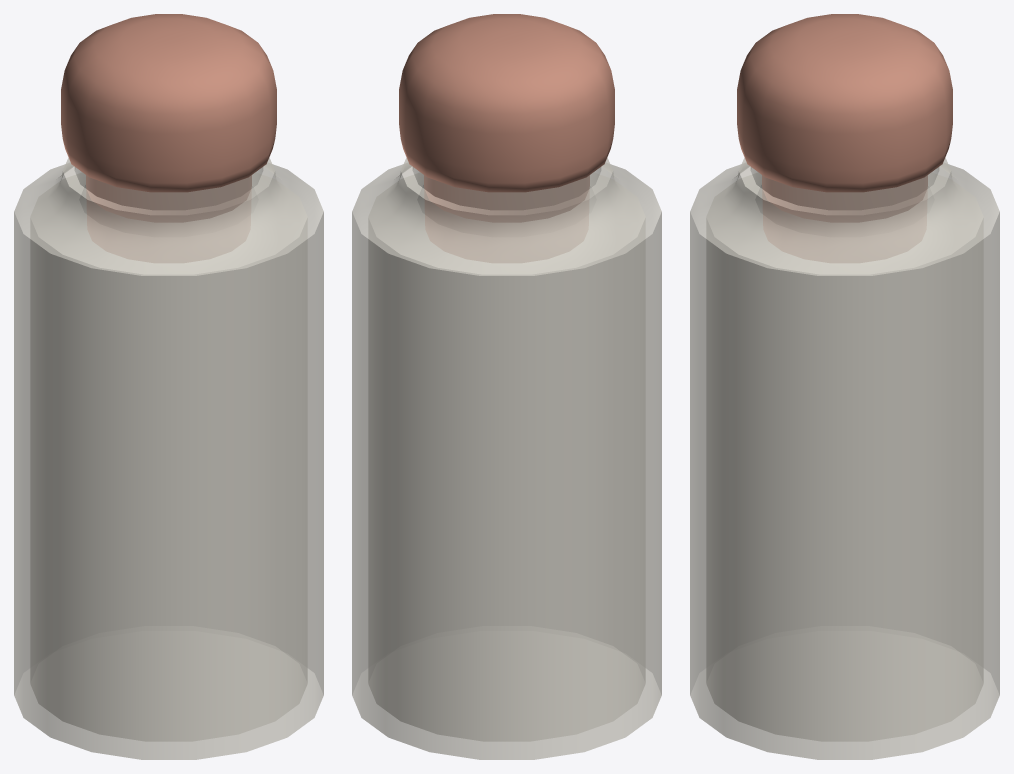
Rendered from frascoCilindrico.fbx.
The picture shows the model from 3 angles, left to right: view 1: azimuth 30°, elevation 25°; view 2: azimuth 150°, elevation 25°; view 3: azimuth 270°, elevation 25°; orthographic projection.
Parts seen in each view (by area): view 1: Frasco Cilindro, Rolha Cilindro; view 2: Frasco Cilindro, Rolha Cilindro; view 3: Frasco Cilindro, Rolha Cilindro.
Part boxes in pixels (box(x1,y1,x2,y2)): Frasco Cilindro: box(14, 157, 323, 759); Rolha Cilindro: box(61, 14, 276, 262); Frasco Cilindro: box(352, 157, 661, 759); Rolha Cilindro: box(399, 14, 614, 262); Frasco Cilindro: box(690, 157, 999, 759); Rolha Cilindro: box(737, 14, 952, 262).
Bounding box in the file's own units: 197 × 469 × 200.
